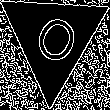O_SW: (25, 6, 82, 72)
